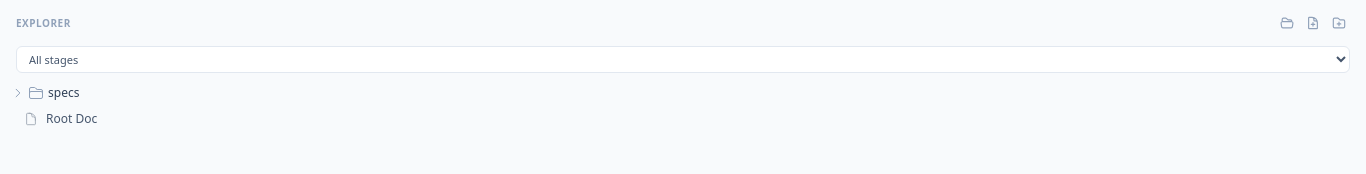
Test: FileTree folder ticket suggestions › does not show "Generate ticket suggestions" in document context menu
The image size is (1366, 174).
Check: the text "Root Doc" is shown, box [46,110,97,127]
# Right-click on the document
Right-click the link "Root Doc" at (61,118), box [24,110,97,127]
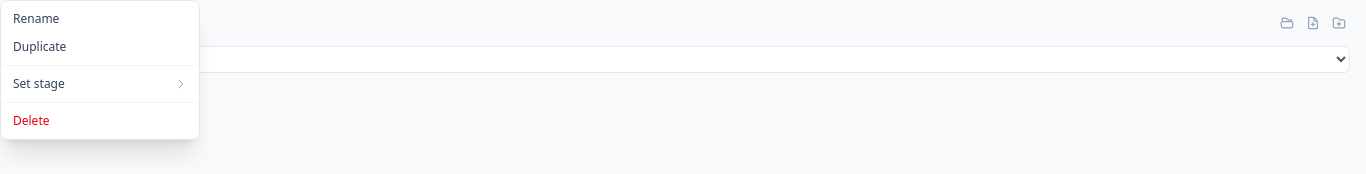
Check: the menu is shown, box [0,0,200,140]
